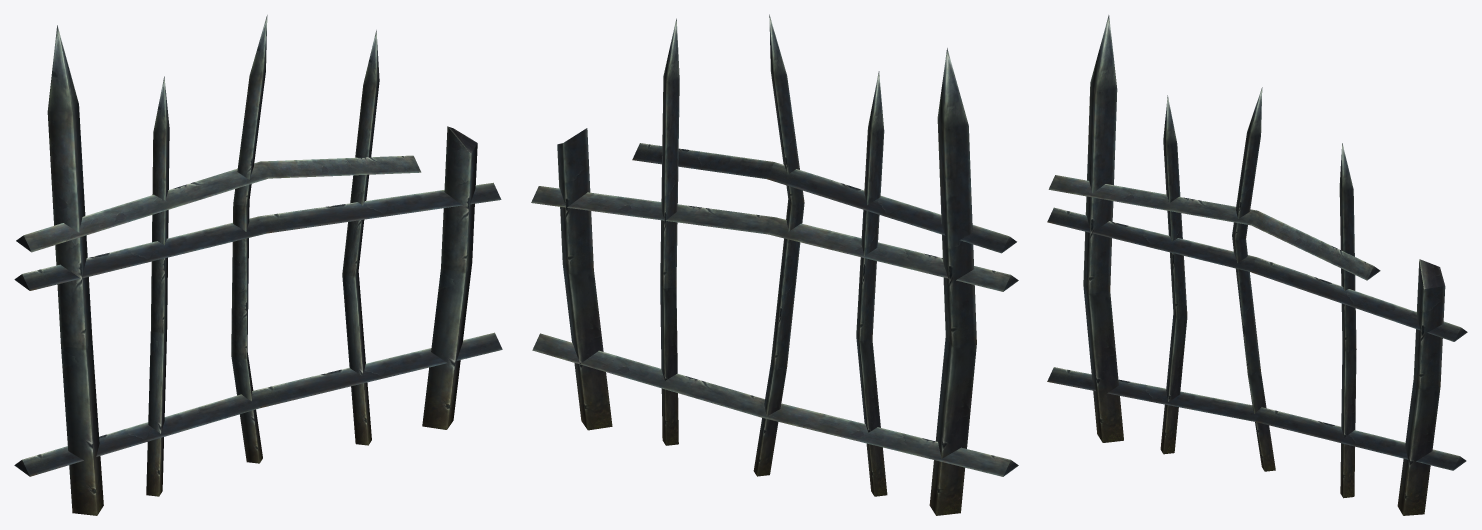
File: C_zhalan002.fbx
3 views of the same model, side by side, from view 1: azimuth 30°, elevation 25°; view 2: azimuth 150°, elevation 25°; view 3: azimuth 330°, elevation 25° (orthographic). The views are drawn at different scales.
Visible parts, largest first — view 1: C_zhalan002; view 2: C_zhalan002; view 3: C_zhalan002.
Boxes of the visible parts, x1,y1,x2,y2 form: C_zhalan002: (14,15,502,515); C_zhalan002: (531,14,1018,515); C_zhalan002: (1047,15,1467,515).
Bounding box in the file's own units: 233 × 225 × 29.75.
